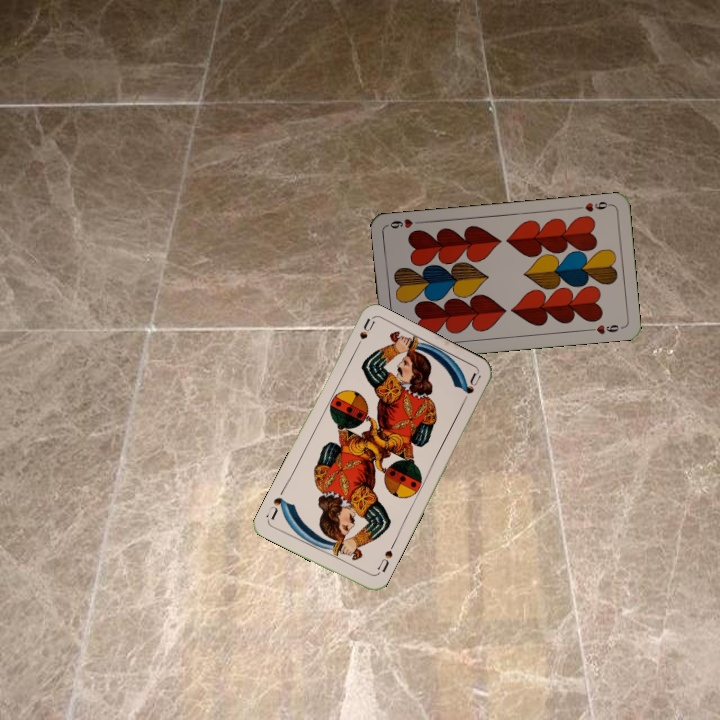H9: (573, 197, 614, 214)
SU: (350, 315, 377, 354), (373, 546, 395, 575)
